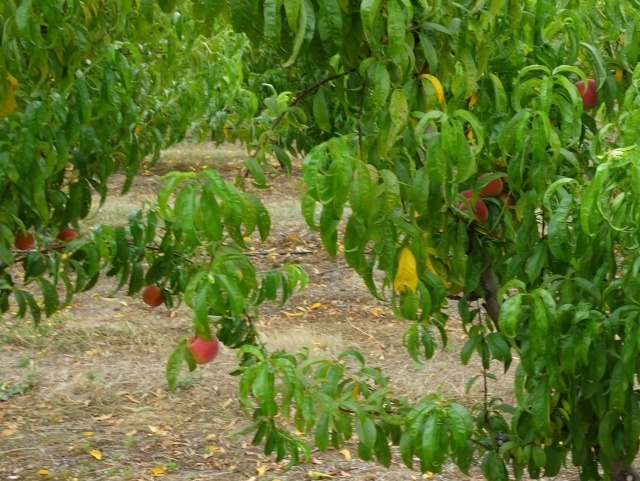peach: (183, 328, 222, 367), (568, 78, 602, 109), (455, 195, 489, 224), (476, 171, 506, 200), (139, 283, 167, 313), (52, 226, 82, 249), (11, 228, 36, 253)
